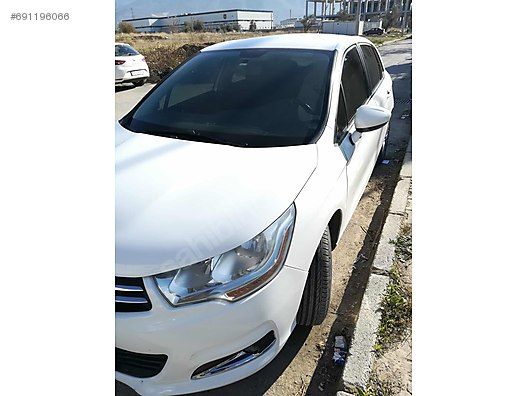citroen: (116, 29, 399, 393)
